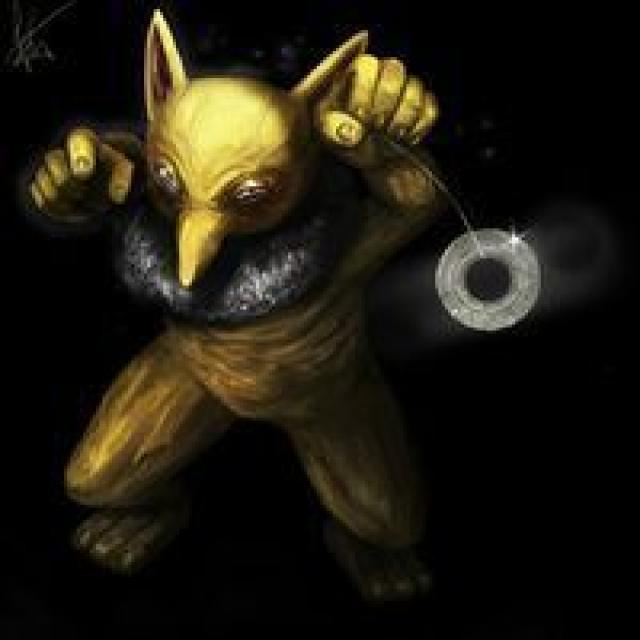Hypno: (71, 49, 457, 572)
